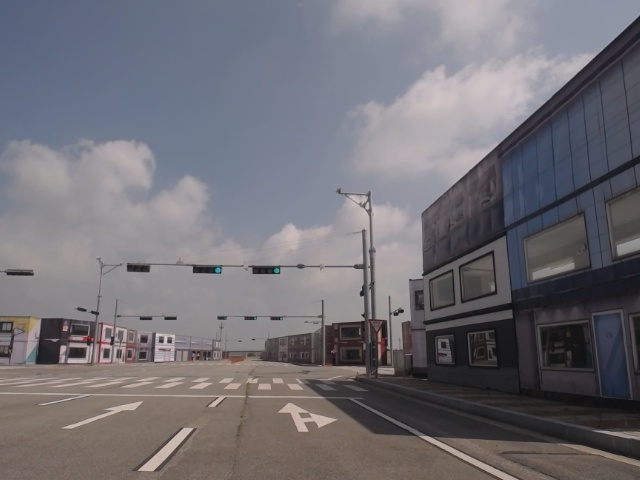straight_green_4: (251, 265, 282, 276), (192, 265, 223, 274)
